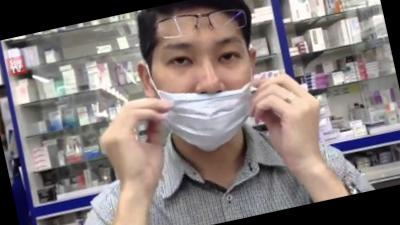mask_weared_incorrect: (145, 25, 270, 161)
